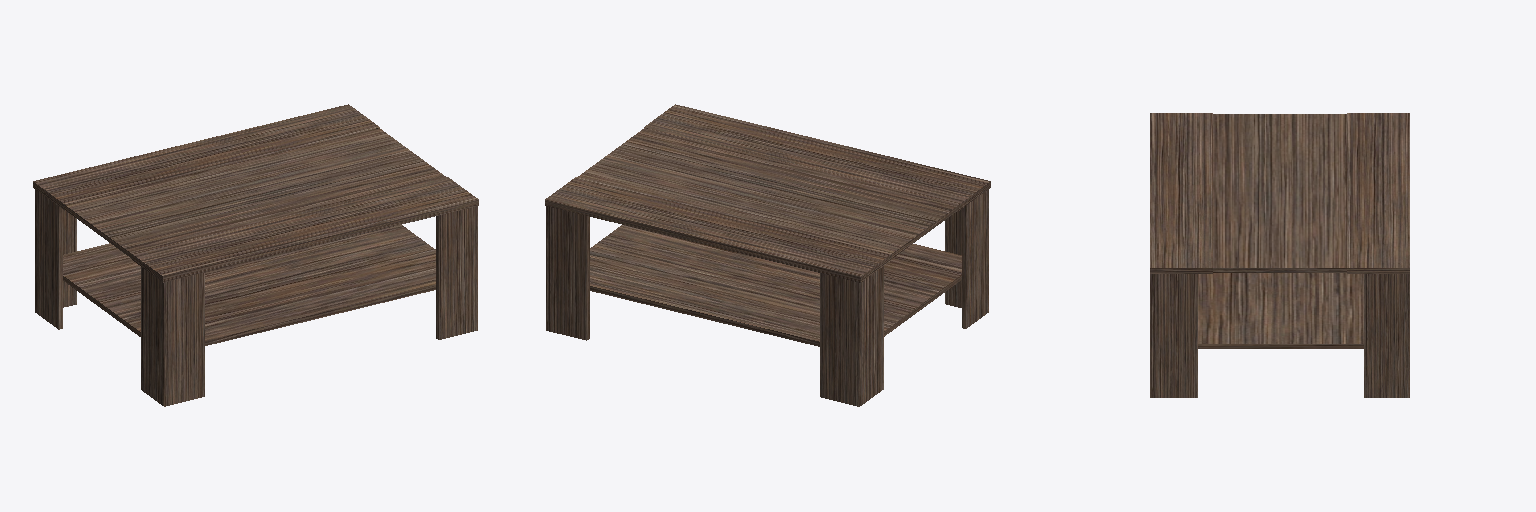
3 renders of one model, left to right at view 1: azimuth 30°, elevation 25°; view 2: azimuth 150°, elevation 25°; view 3: azimuth 270°, elevation 25°, orthographic.
Parts seen in each view (by area): view 1: Cube.002; view 2: Cube.002; view 3: Cube.002.
Part boxes in pixels (bbox=[...]): Cube.002: bbox=[33, 104, 478, 406]; Cube.002: bbox=[545, 104, 990, 406]; Cube.002: bbox=[1150, 113, 1409, 397].
Bounding box in the file's own units: 4.63 × 1.84 × 3.31.
Materials: 1 (1 with a texture image).